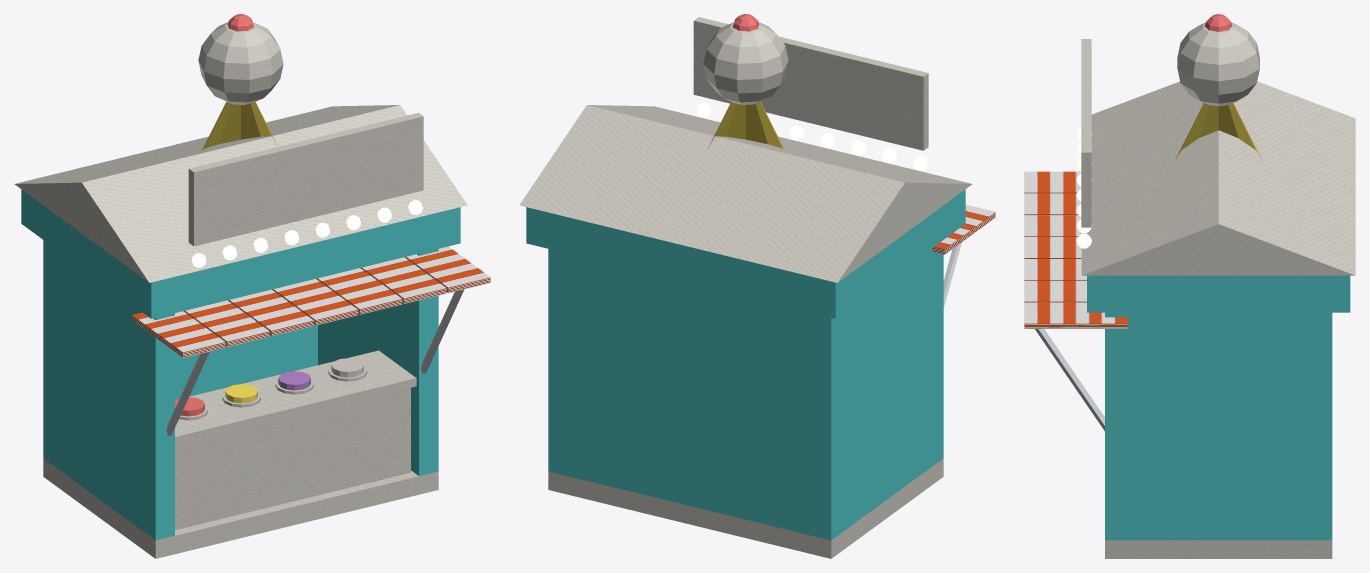
The model's file is theme-park-rides-and-coasters-theme-park-rides-and-coa-024387cb.glb.
3 renders of one model, left to right at view 1: azimuth 30°, elevation 25°; view 2: azimuth 150°, elevation 25°; view 3: azimuth 270°, elevation 25°, orthographic.
Parts seen in each view (by area): view 1: theme-park-rides-and-coasters-ice-cream-kiosk; view 2: theme-park-rides-and-coasters-ice-cream-kiosk; view 3: theme-park-rides-and-coasters-ice-cream-kiosk.
Boxes of the visible parts, <box> form: theme-park-rides-and-coasters-ice-cream-kiosk: <box>14,14,490,558</box>; theme-park-rides-and-coasters-ice-cream-kiosk: <box>519,14,995,558</box>; theme-park-rides-and-coasters-ice-cream-kiosk: <box>1024,14,1355,558</box>.
Size of the model in its own units: 3.6 by 5.06 by 3.21.
8 materials, 2 textured.
